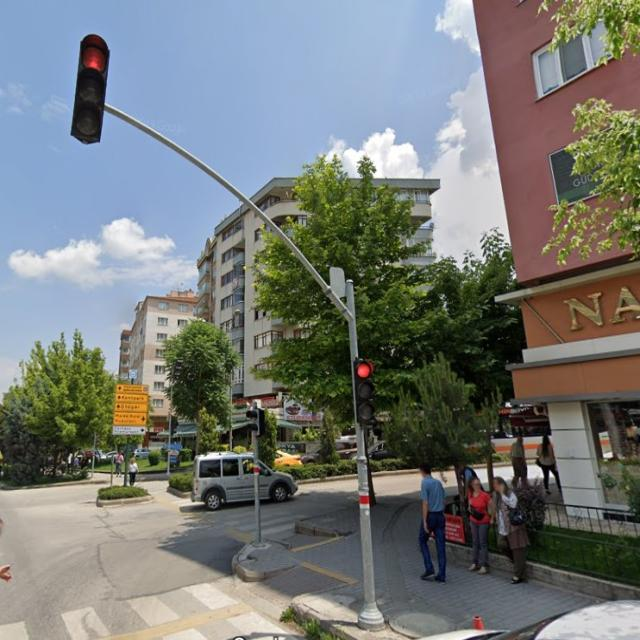kirmizi: (70, 37, 112, 144), (352, 358, 376, 426)
